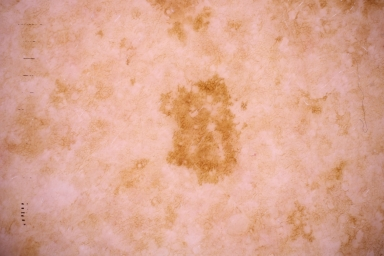nevus: (168, 81, 237, 182)
